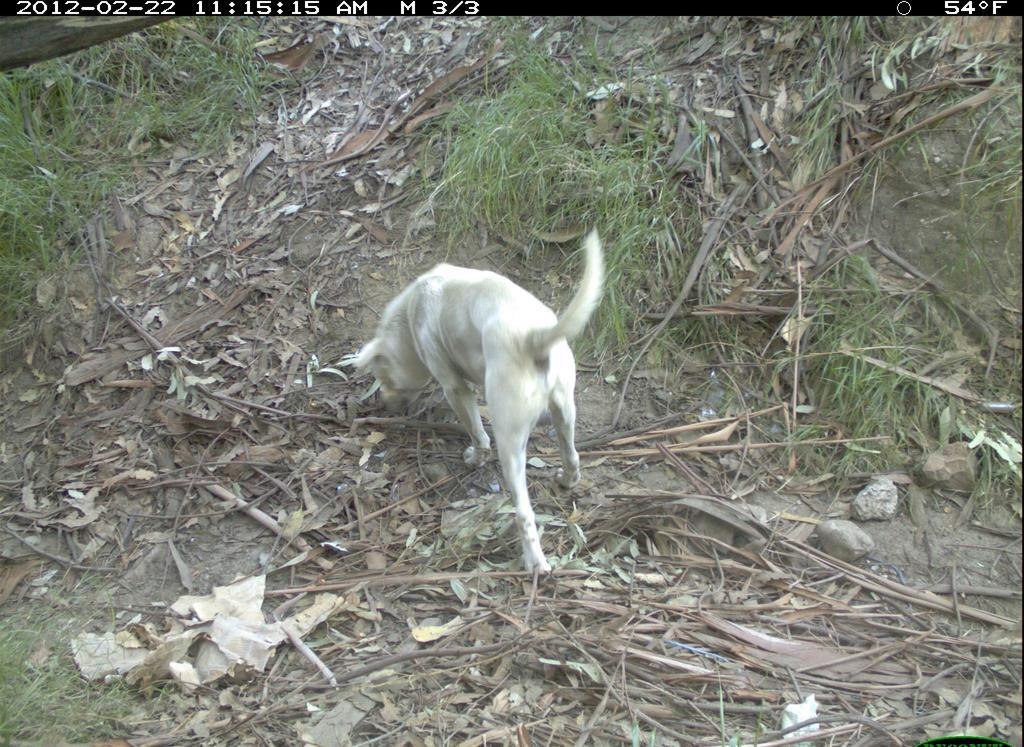dog: (332, 217, 617, 591)
